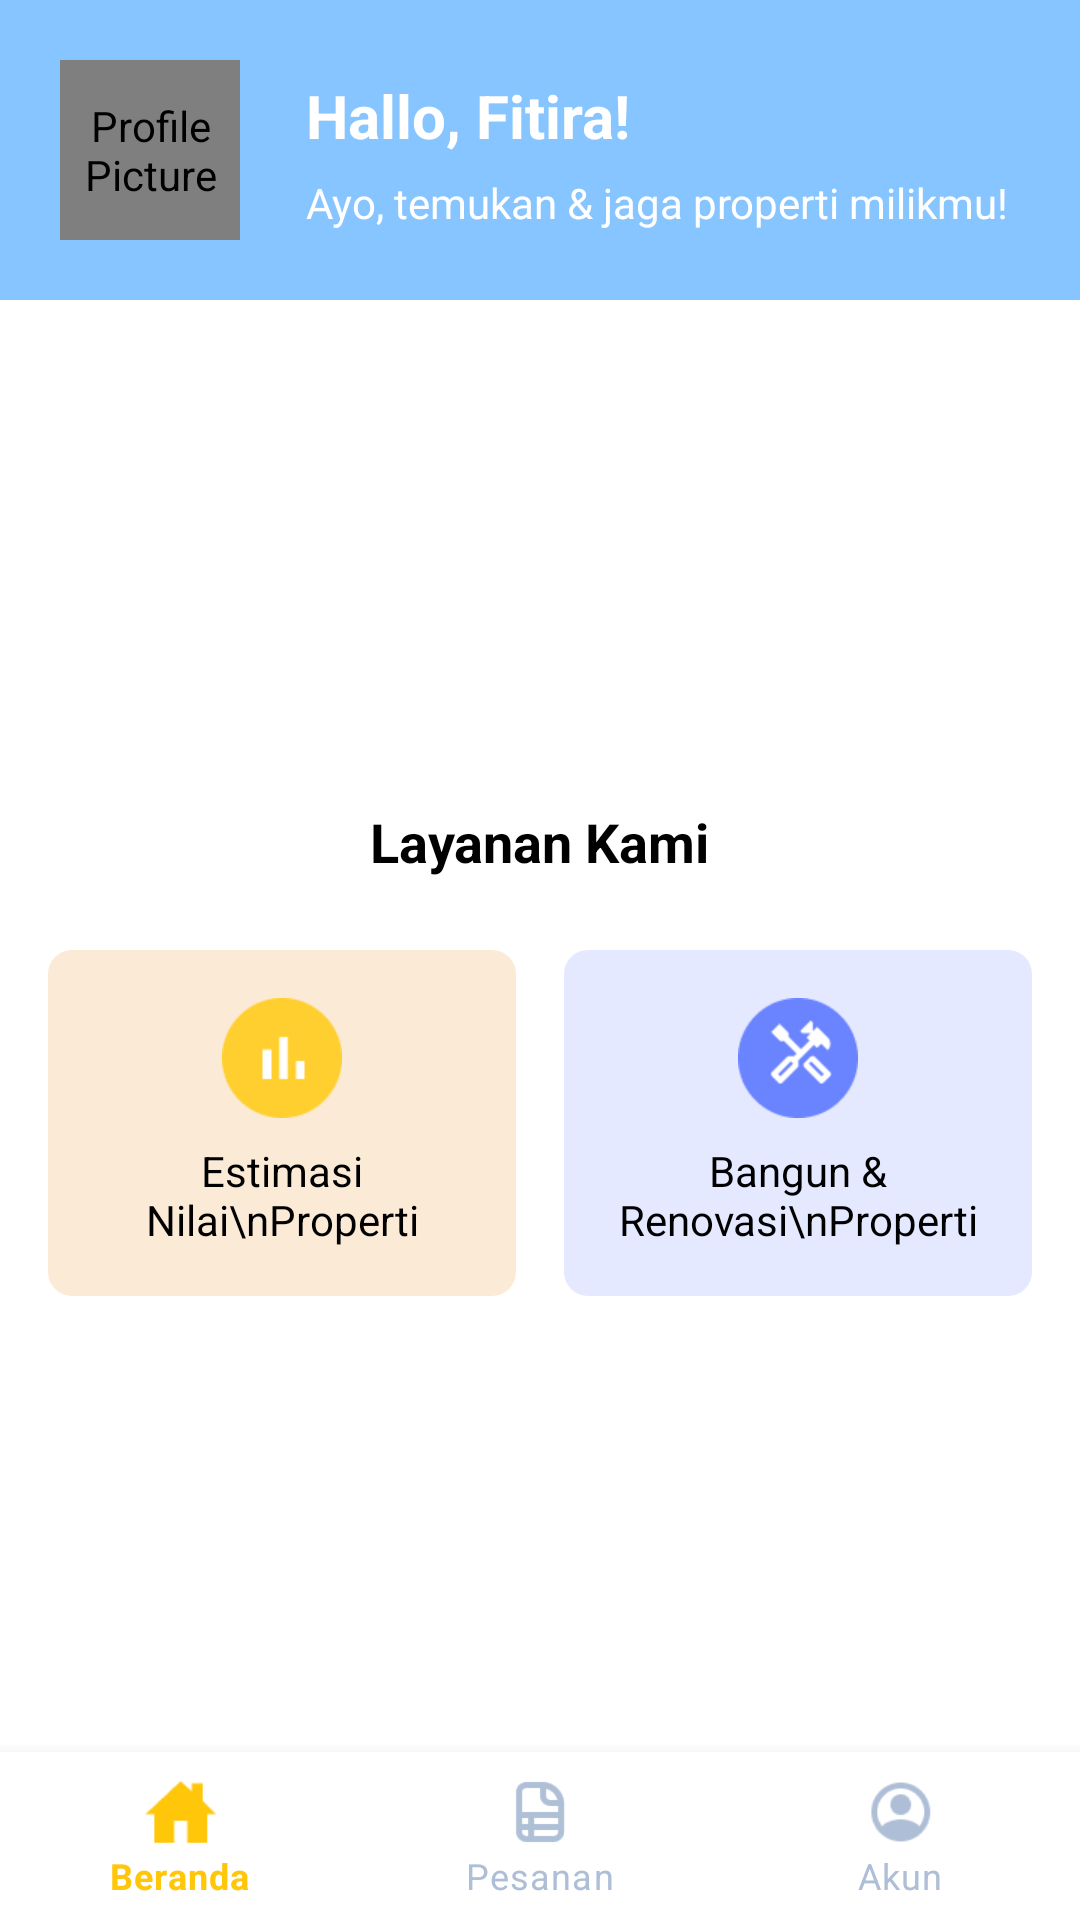

Named icons in this screenshot (1080px×1920px) and their bounding boxes, (left=x1, top=y1, right=x2, bottom=y2):
estimate value: (left=222, top=998, right=342, bottom=1118)
renovation: (left=738, top=998, right=858, bottom=1118)
